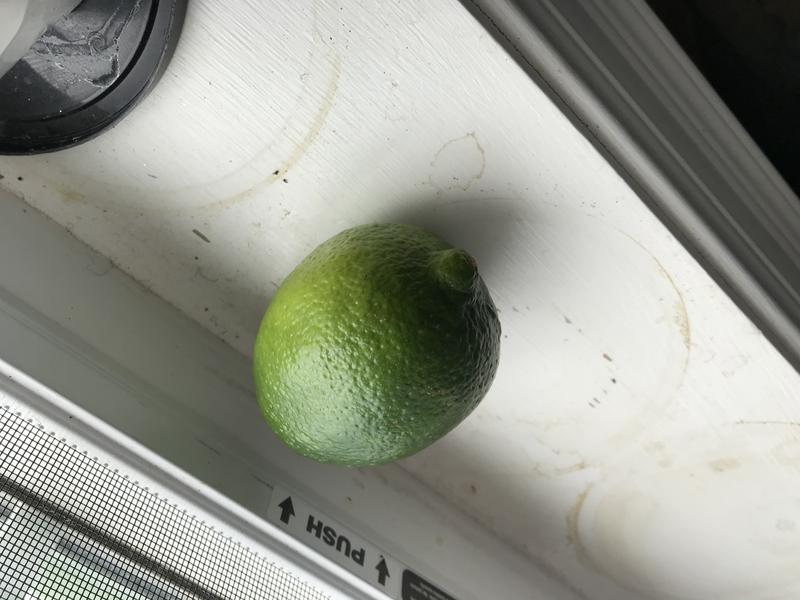lime: (238, 212, 512, 480)
